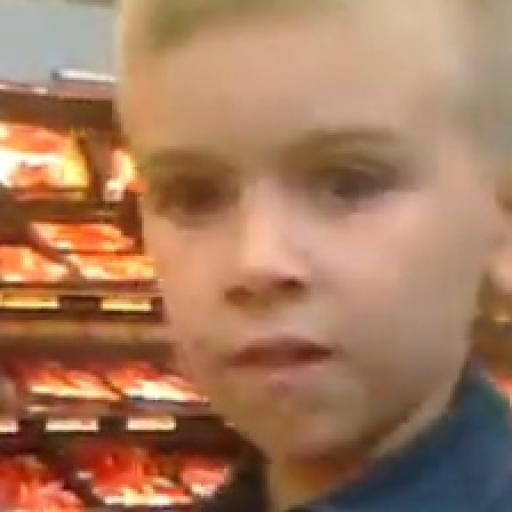Autism: (117, 30, 512, 512)
